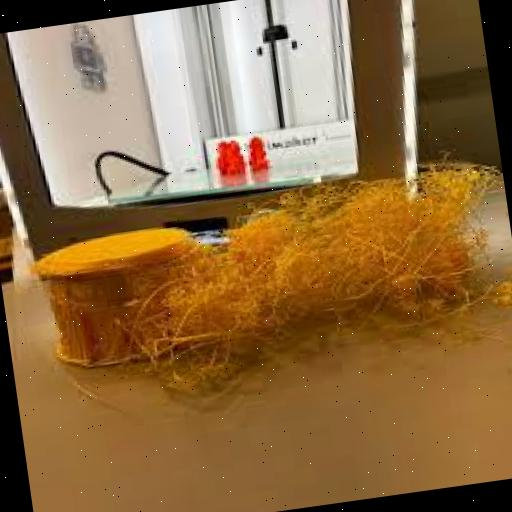spaghetti: (133, 192, 451, 390)
